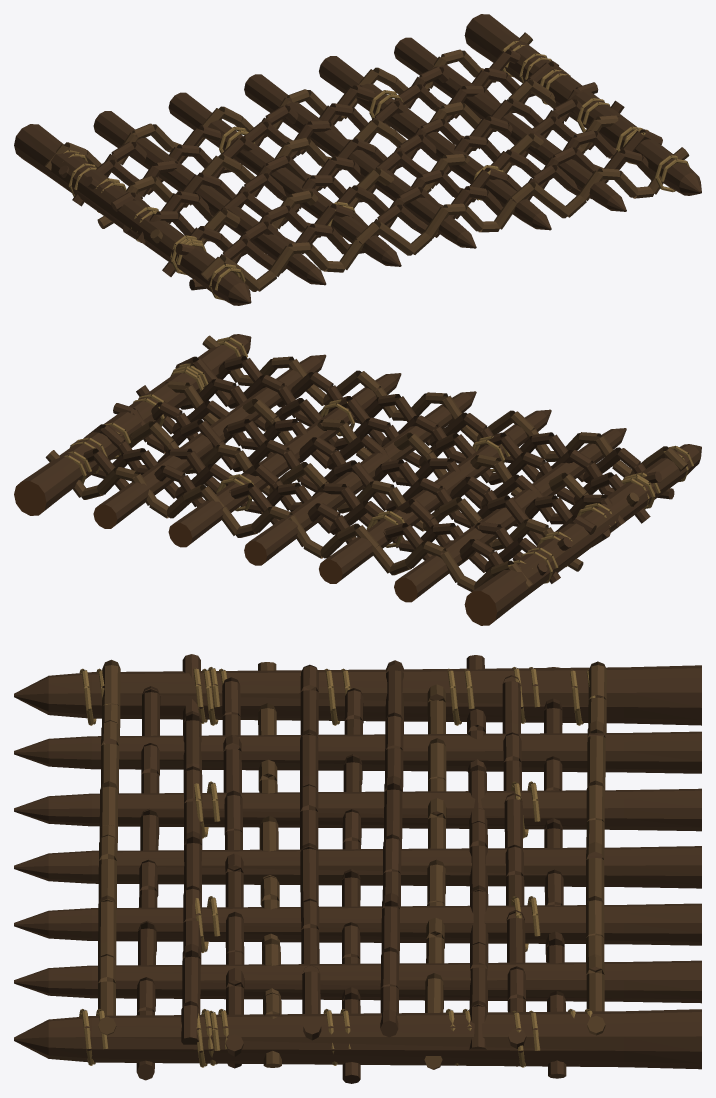
File: SM_Wattle_Fence2m_1348_LOD0.obj
The picture shows the model from 3 angles, top to bottom: view 1: azimuth 30°, elevation 25°; view 2: azimuth 150°, elevation 25°; view 3: azimuth 270°, elevation 25°; orthographic projection. The views are drawn at different scales.
Parts seen in each view (by area): view 1: woven_horizontal_rods, hewn_vertical_stake, hand_lashed_binding, woven_horizontal_rods_cut; view 2: woven_horizontal_rods, hewn_vertical_stake, hand_lashed_binding, stake_bottom, woven_horizontal_rods_cut; view 3: hewn_vertical_stake, woven_horizontal_rods, hand_lashed_binding, woven_horizontal_rods_cut.
Part boxes in pixels (x1,y1,x2,y2): woven_horizontal_rods: (44, 32, 689, 291); hewn_vertical_stake: (14, 14, 701, 305); hand_lashed_binding: (63, 41, 689, 300); woven_horizontal_rods_cut: (45, 60, 618, 290); woven_horizontal_rods: (45, 335, 687, 591); hewn_vertical_stake: (22, 334, 701, 623); hand_lashed_binding: (64, 337, 693, 583); stake_bottom: (14, 481, 497, 625); woven_horizontal_rods_cut: (73, 386, 687, 587); hewn_vertical_stake: (14, 665, 701, 1069); woven_horizontal_rods: (98, 654, 606, 1078); hand_lashed_binding: (79, 667, 595, 1067); woven_horizontal_rods_cut: (98, 664, 605, 1083).
Size of the model in its own units: 2.03 by 0.1835 by 1.59.
